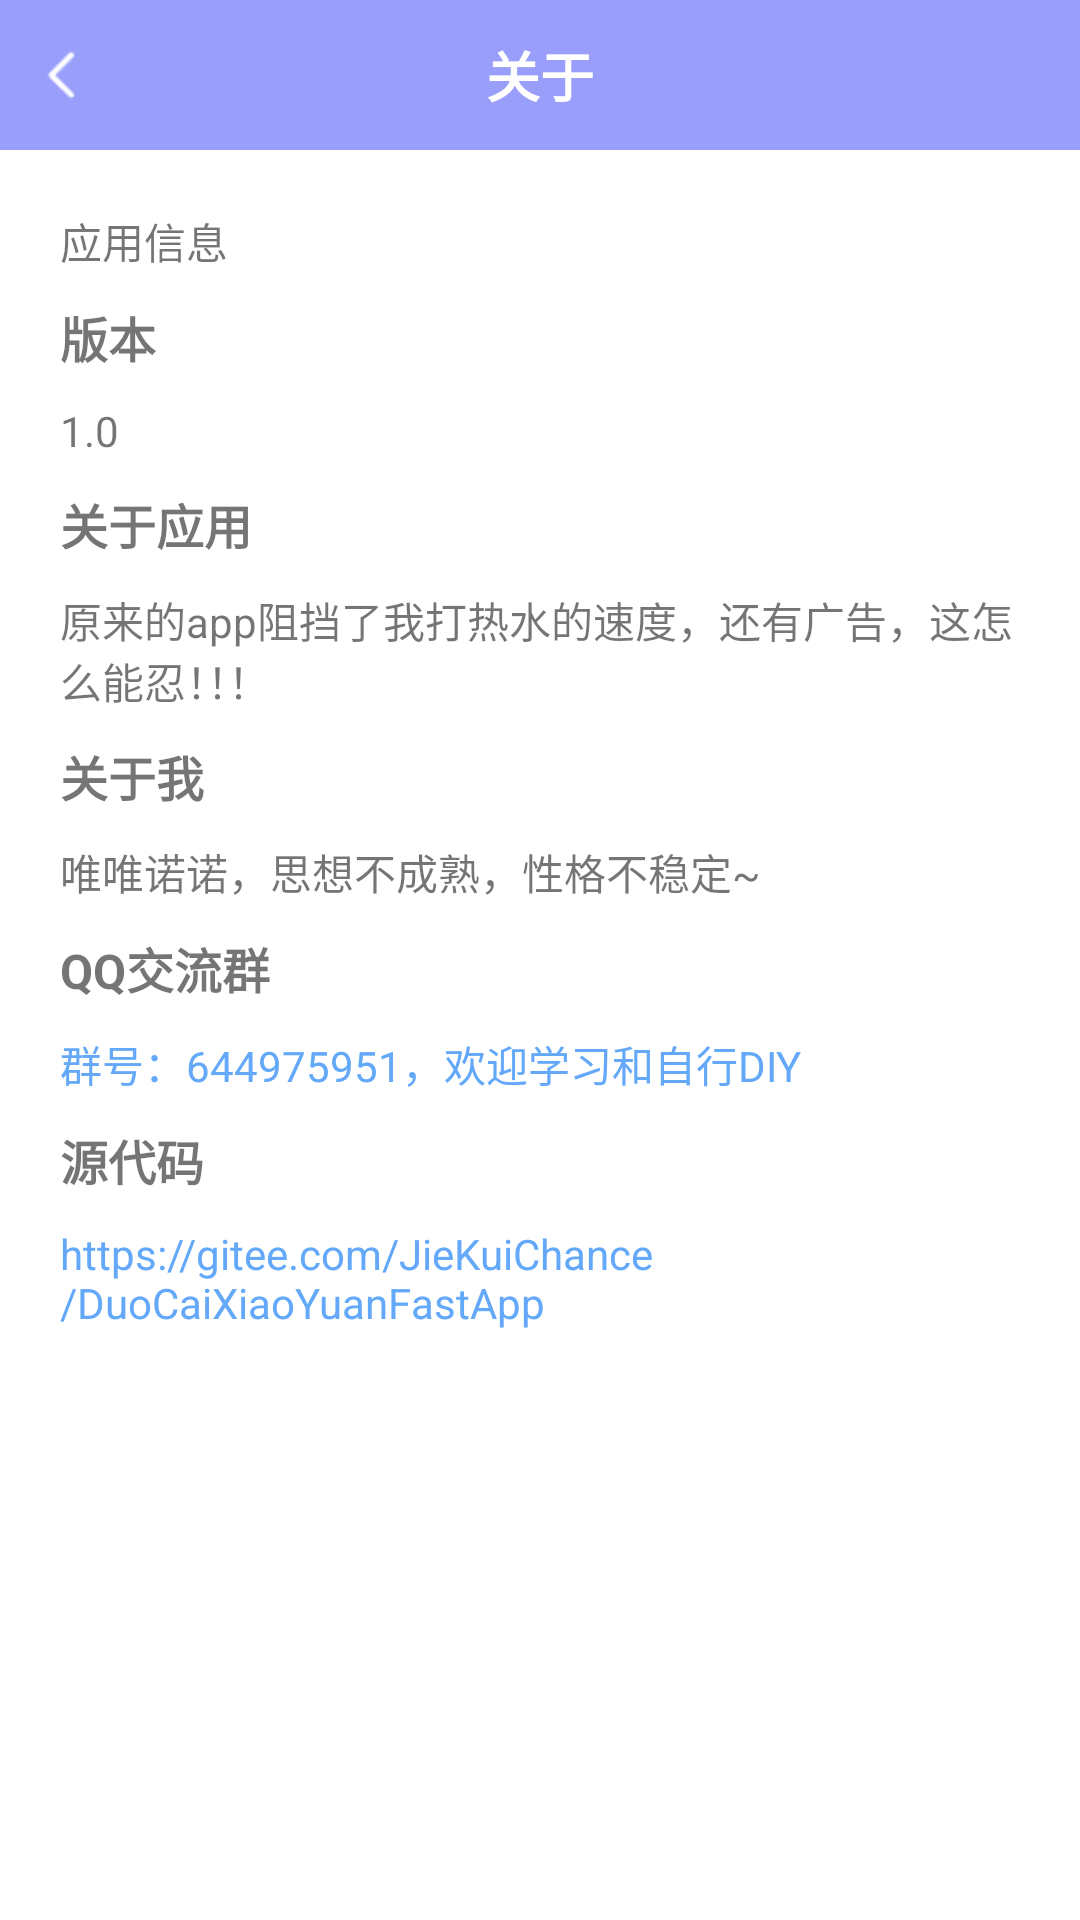

Named icons in this screenshot (1080px×1920px) and their centers, [x,y]:
back: [61,75]
